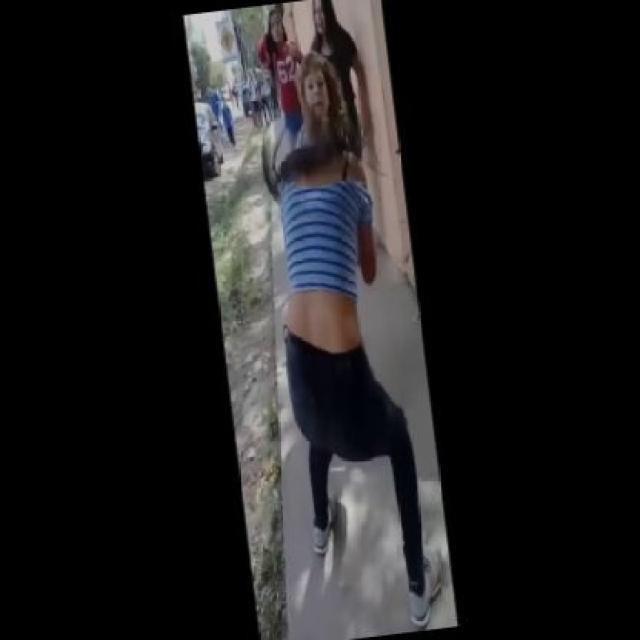fight: (197, 11, 465, 635)
